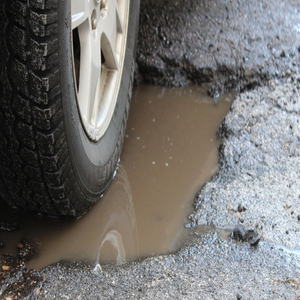pothole: (15, 55, 258, 277)
